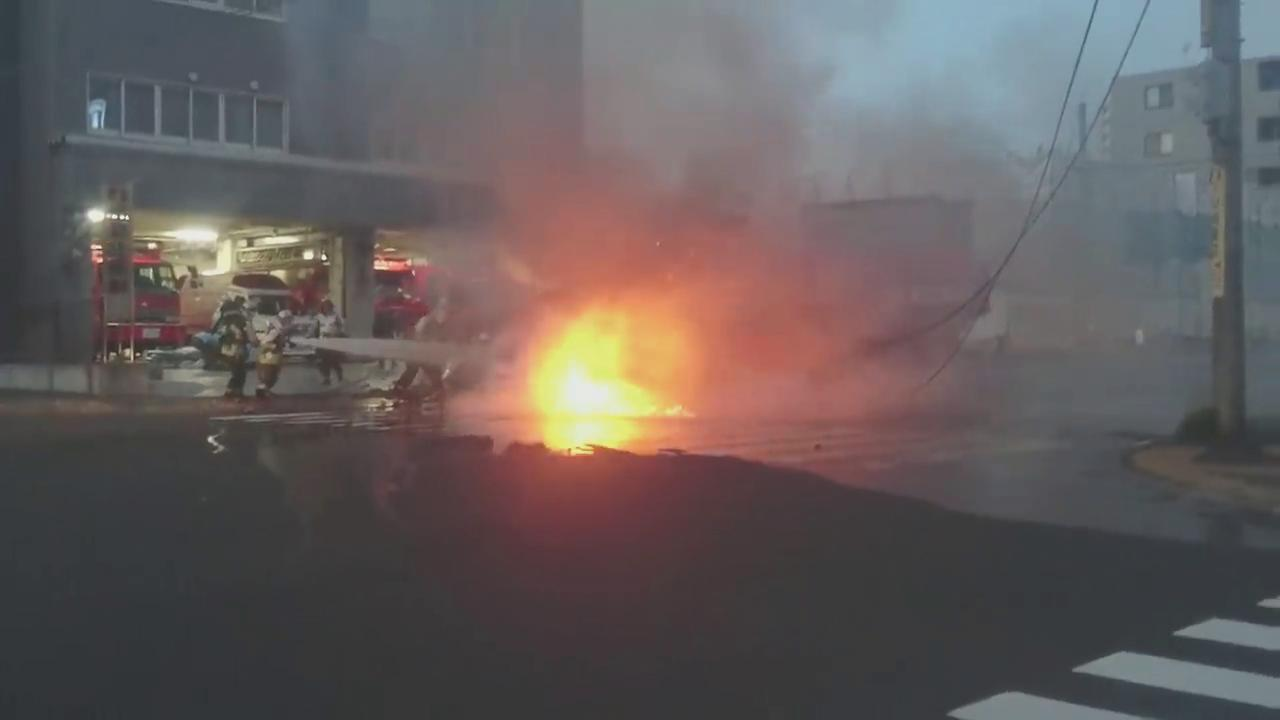Fire: (528, 306, 697, 421)
